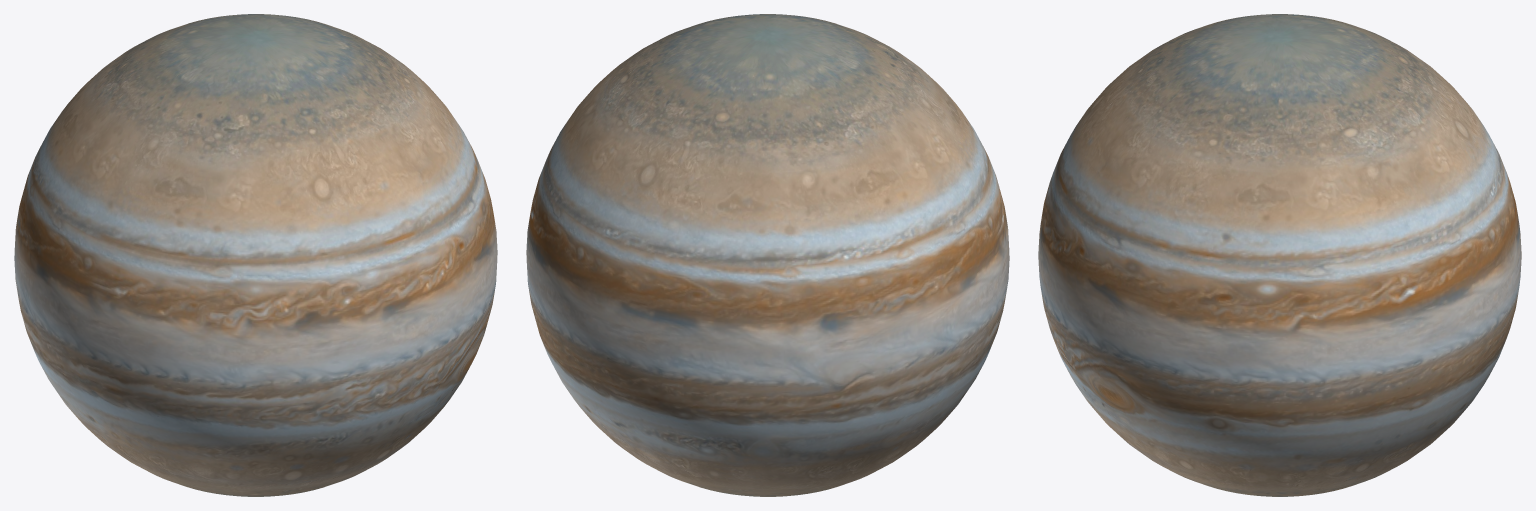
File: centered_Jupiter.glb
3 renders of one model, left to right at view 1: azimuth 30°, elevation 25°; view 2: azimuth 150°, elevation 25°; view 3: azimuth 270°, elevation 25°, orthographic.
Parts seen in each view (by area): view 1: Jupiter; view 2: Jupiter; view 3: Jupiter.
Part boxes in pixels (x1=…): Jupiter: x1=14, y1=14, x2=497, y2=496; Jupiter: x1=526, y1=14, x2=1009, y2=496; Jupiter: x1=1038, y1=14, x2=1521, y2=496.
Size of the model in its own units: 13.98 by 13.98 by 13.98.
2 materials, 1 textured.
